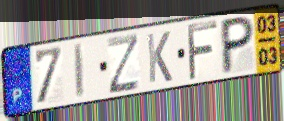7: (34, 45, 64, 108)
F: (185, 19, 220, 83)
I: (72, 41, 86, 100)
K: (145, 29, 174, 85)
P: (219, 14, 256, 78)
Z: (105, 31, 141, 96)
